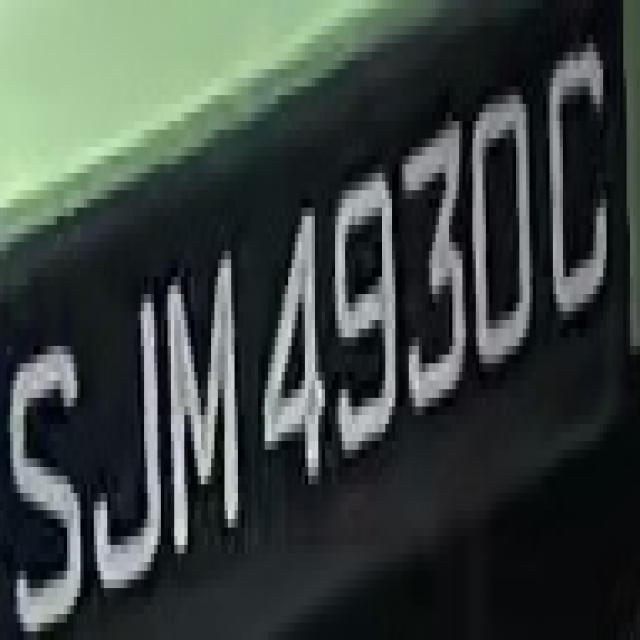0: (459, 61, 536, 380)
3: (399, 86, 472, 424)
4: (265, 199, 335, 484)
9: (325, 156, 412, 476)
C: (542, 35, 626, 346)
J: (97, 260, 161, 606)
M: (157, 268, 258, 588)
S: (17, 294, 97, 631)
